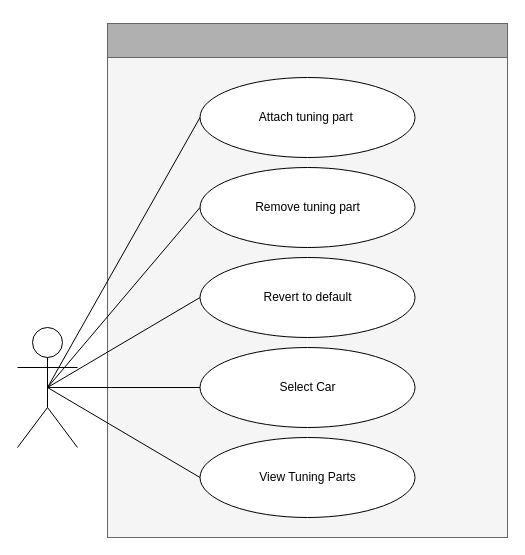
This 525x555 diagram has some shape labels left out. The shapes that lost their labels are listed below. From the top down, each one's centre as x and y in pixels, then its label:
point 307,40: Car Tuning Configuration
point 47,387: Player
